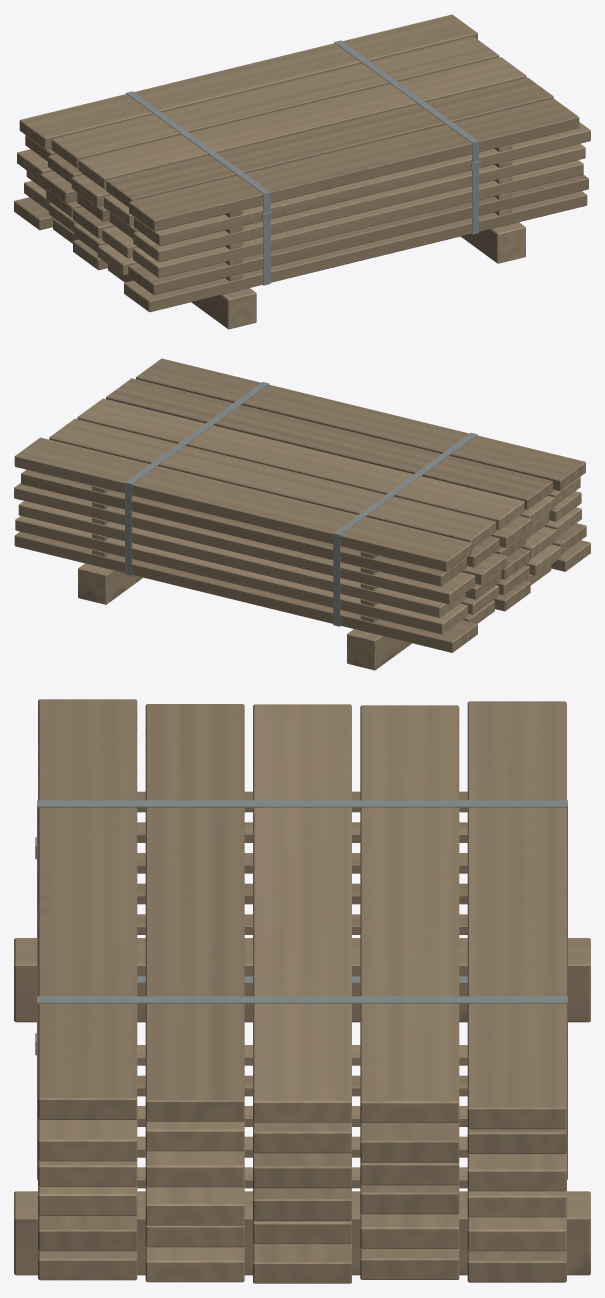
Rendered from timber_stack_boards.glb.
3 views of the same model, one above another, from view 1: azimuth 30°, elevation 25°; view 2: azimuth 150°, elevation 25°; view 3: azimuth 270°, elevation 25° (orthographic). The views are drawn at different scales.
Parts seen in each view (by area): view 1: TimberStackBoards; view 2: TimberStackBoards; view 3: TimberStackBoards.
Part boxes in pixels (x1=…): TimberStackBoards: x1=14, y1=14, x2=590, y2=329; TimberStackBoards: x1=14, y1=358, x2=590, y2=670; TimberStackBoards: x1=14, y1=699, x2=590, y2=1283.
Size of what is drawn, in the model's own units: 1.85 by 0.482 by 1.08.
1 material, 1 textured.
